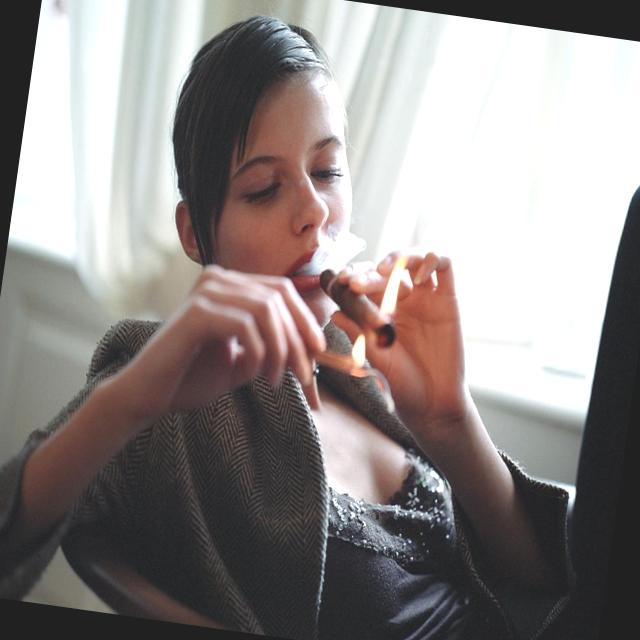smoke: (303, 244, 411, 357)
